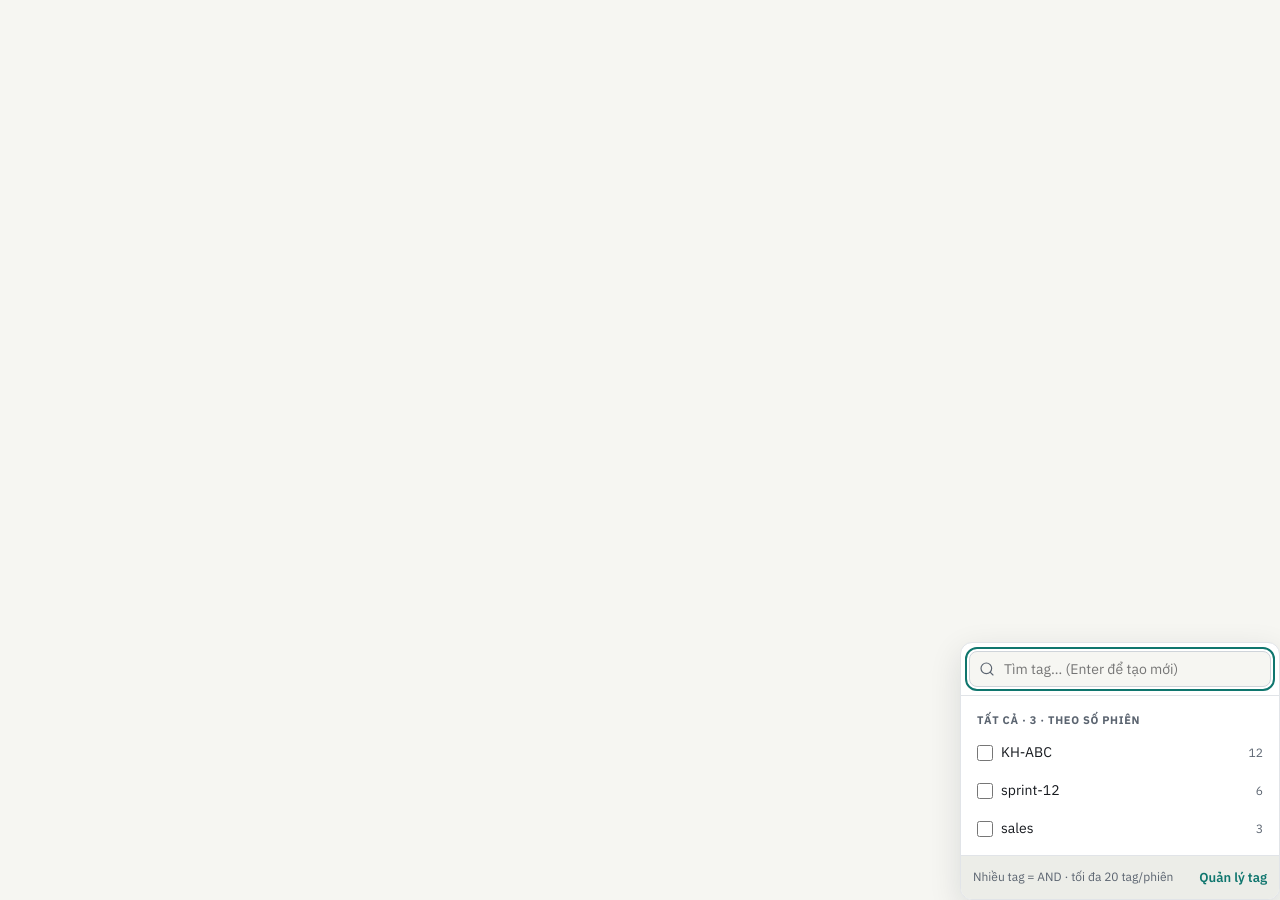
Test case: TagPicker › back button in manage view returns to the search/list view
This screenshot has width=1280, height=900.
(page scrolled)
What coordinates should you click on to do the following:
click the button "Quản lý tag"
I would click on:
 (1233, 877)
Its box is x1=1199 y1=868 x2=1267 y2=887.
(page scrolled)
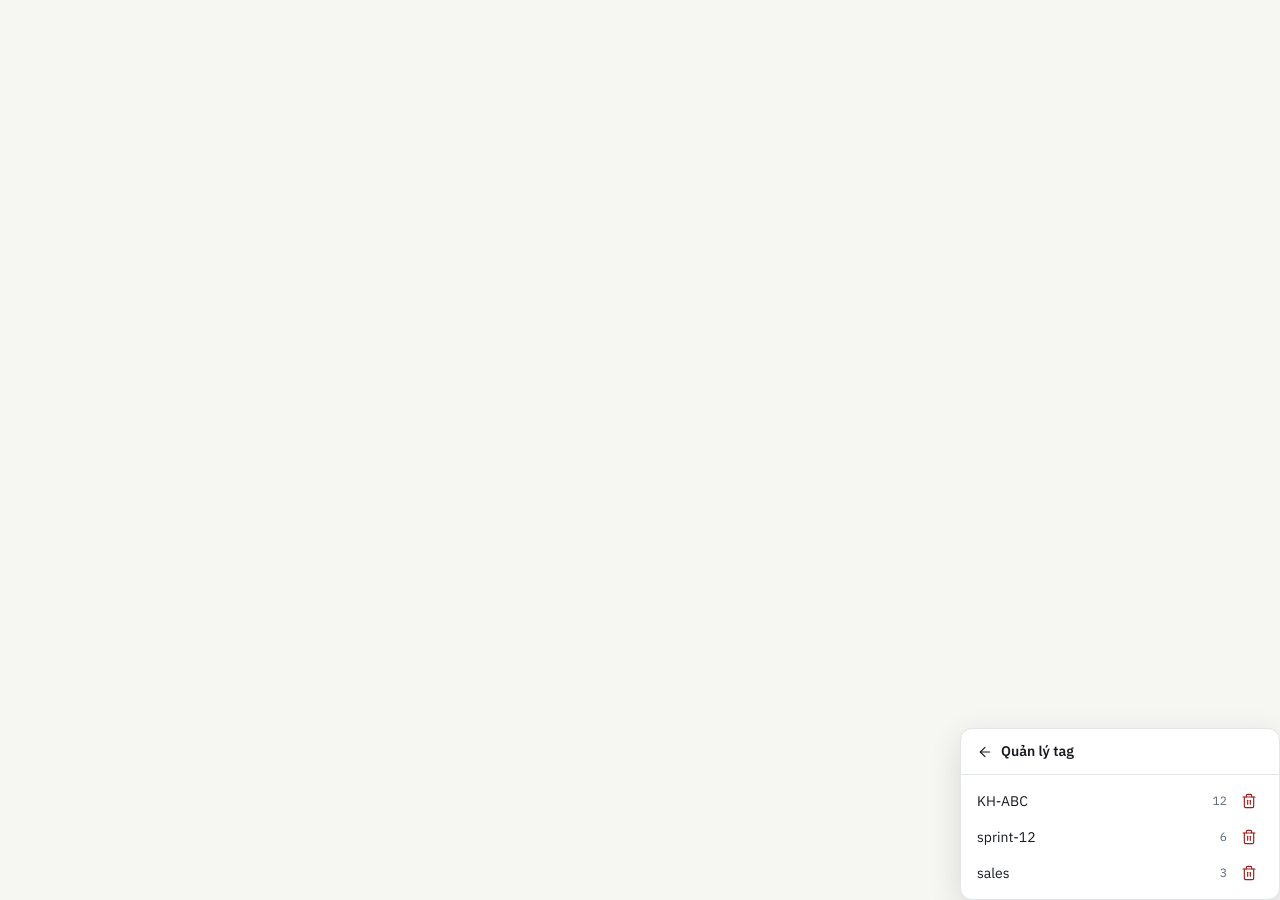
What coordinates should you click on to do the following:
click the button with aria-label "Quay lại chọn tag"
I would click on:
 (1025, 752)
Its box is x1=969 y1=737 x2=1082 y2=766.
(page scrolled)
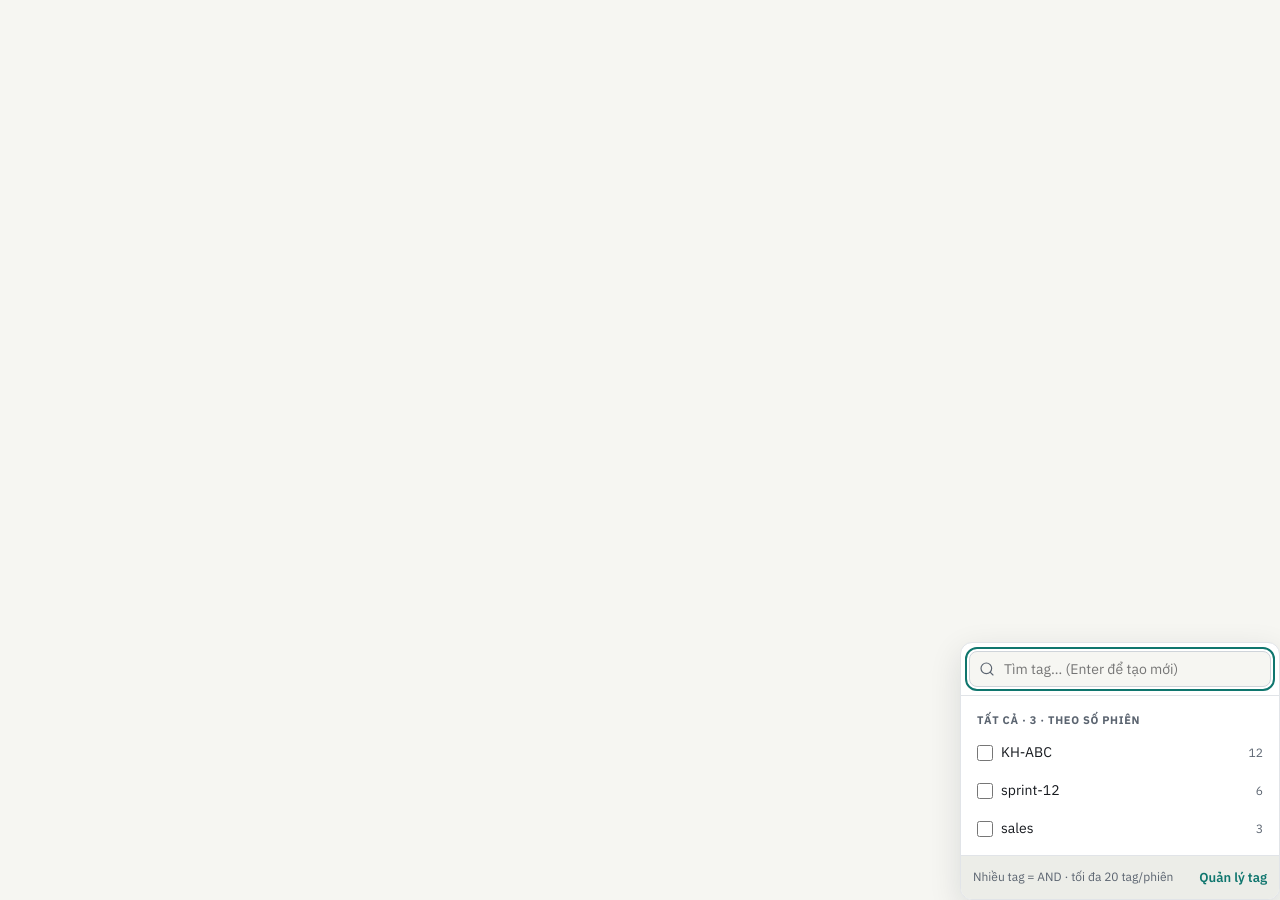
Expected: the search field labelled "Tìm tag" is shown, x1=969 y1=651 x2=1271 y2=687
